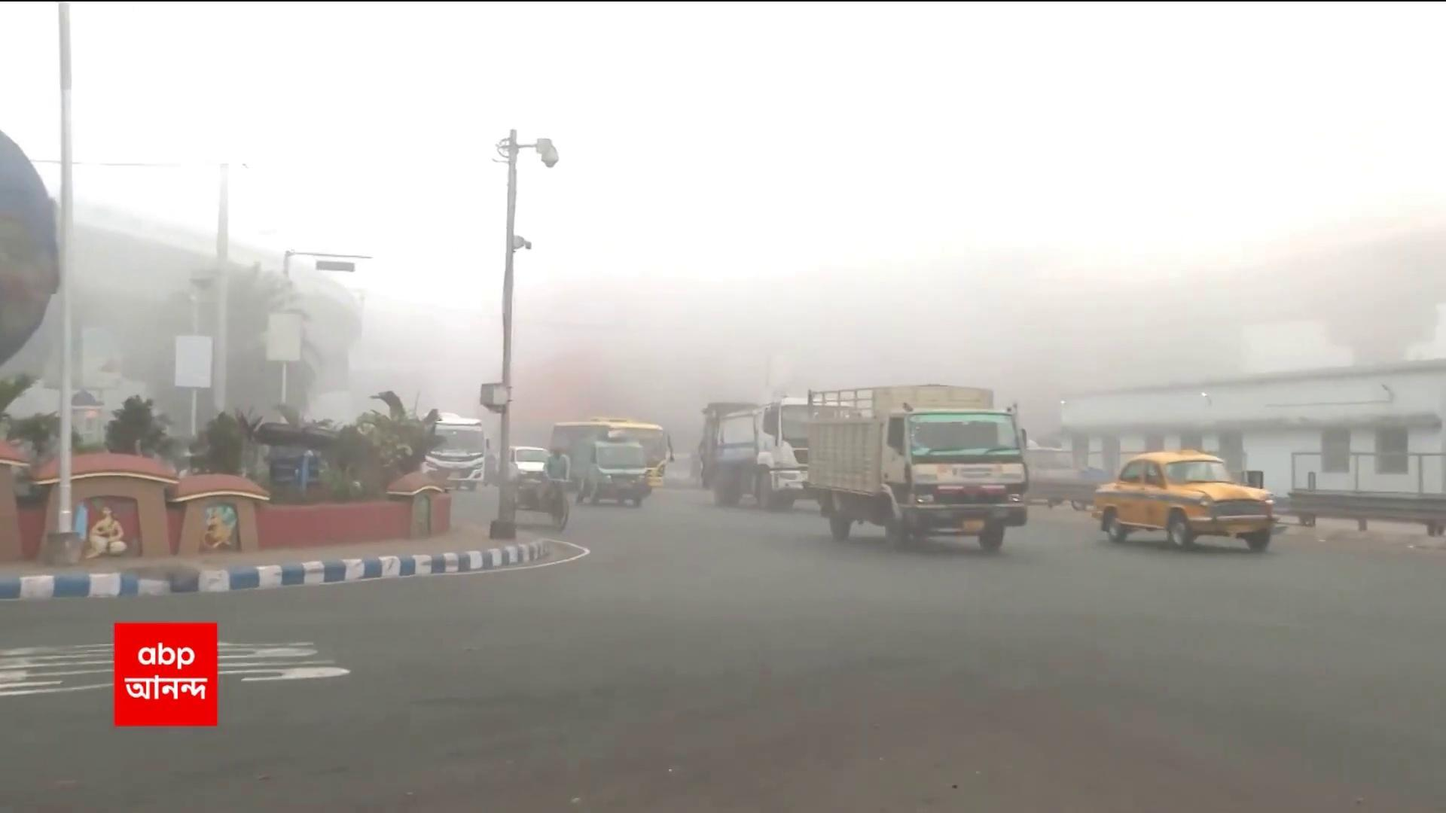Car: (1090, 446, 1277, 553)
Truck: (805, 381, 1032, 553), (714, 388, 836, 509), (559, 422, 656, 501)
